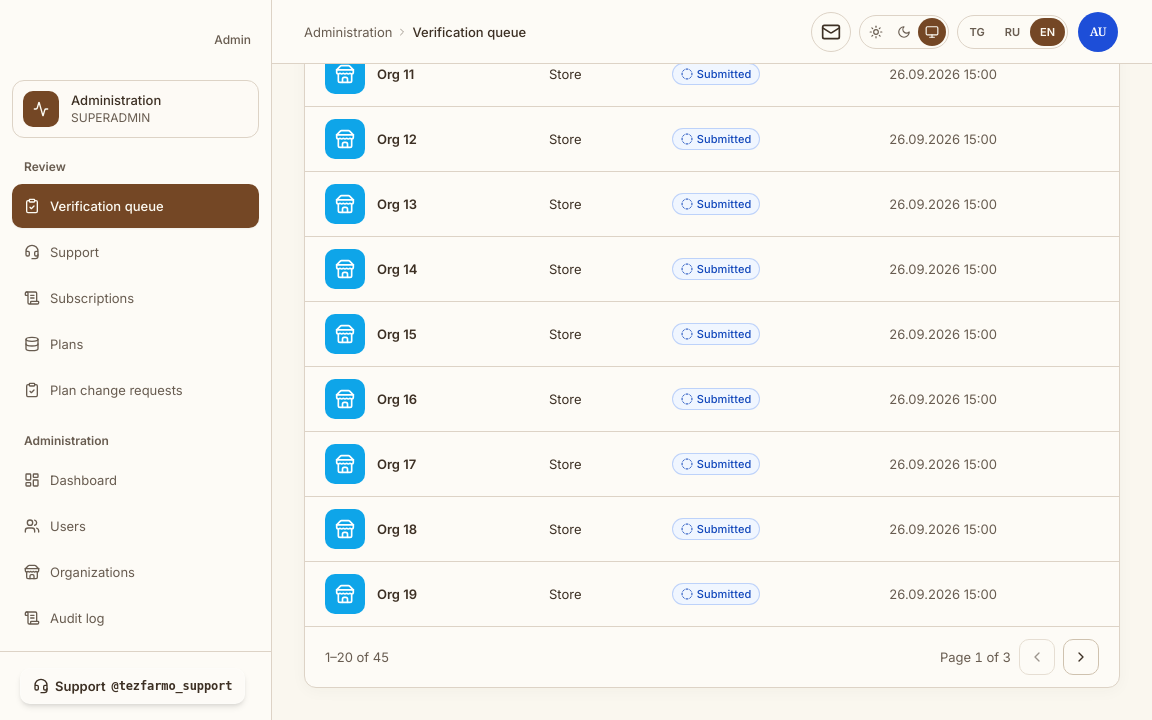
Test case: admin verification queue (P02 §5/§8) › FND-009/035: pages and sorts through the API (limit/offset, ordering=±submitted_at)
This screenshot has width=1152, height=720.
(page scrolled)
Step 1. Click the button named "Next page" → (1081, 657), box [1063, 639, 1099, 675]
(page scrolled)
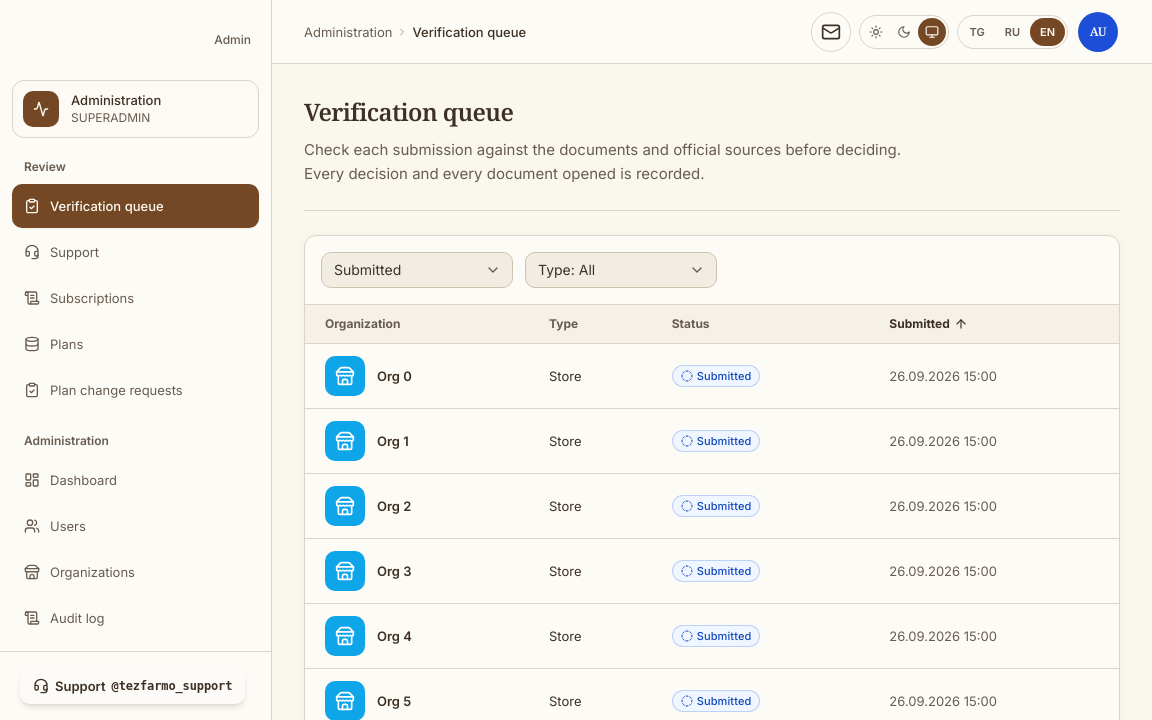
changing the order starts again at the first page
Step 2. Click the button "Submitted" → (928, 324), box [885, 315, 972, 333]
(page scrolled)
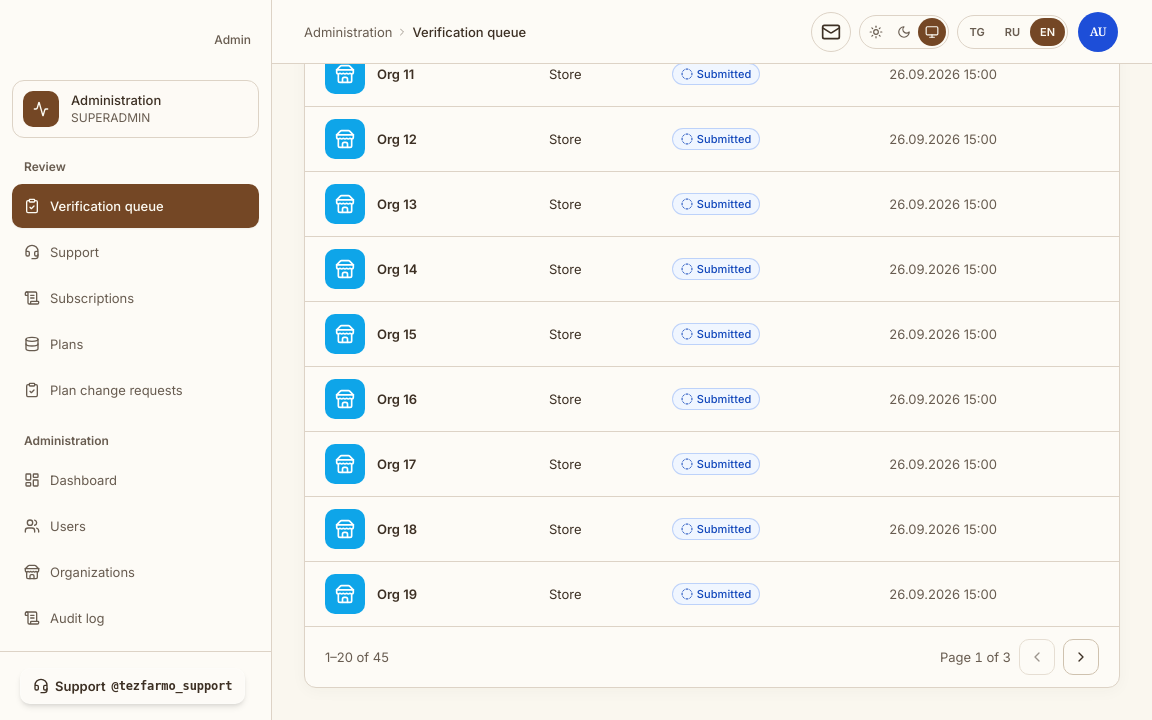
Step 3. Click the button named "Next page" → (1081, 657), box [1063, 639, 1099, 675]
(page scrolled)
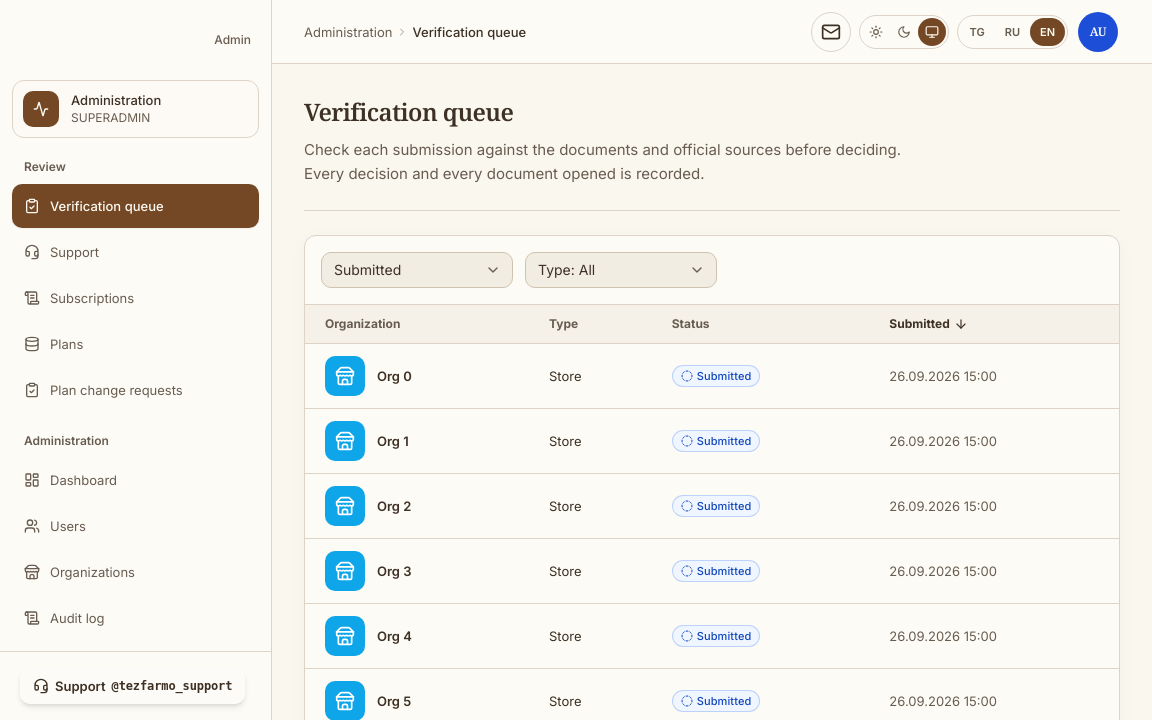
Step 4. Select "Store" in the dropdown named "Type" → (621, 270), box [525, 252, 717, 288]
(page scrolled)
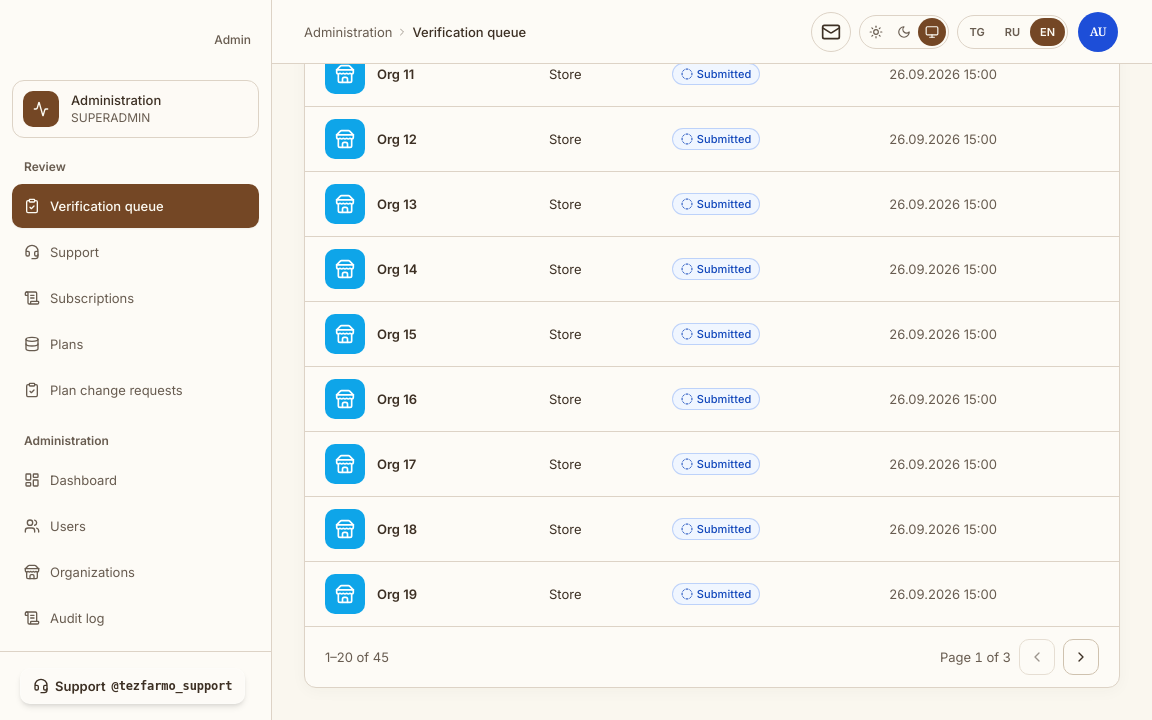
FND-011: "Reset filters" returns to the working queue (SUBMITTED, any type), keeps the order, first page
Step 5. Click the button named "Next page" → (1081, 657), box [1063, 639, 1099, 675]
(page scrolled)
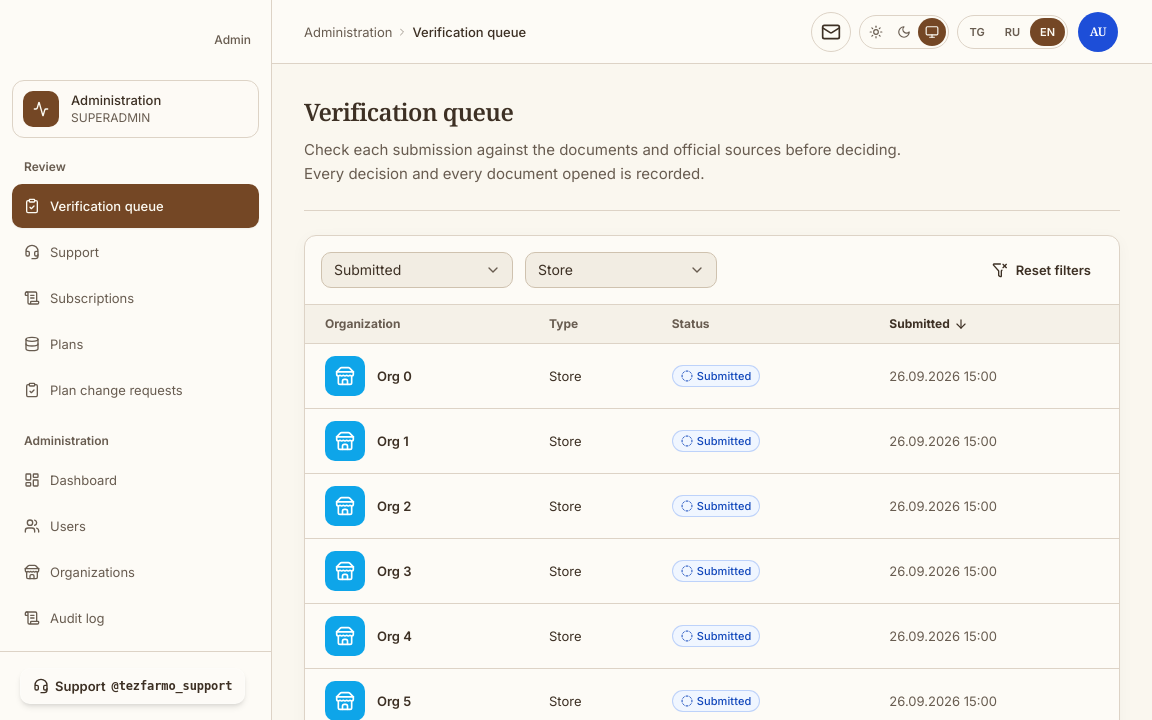
Step 6. Click the button "Reset filters" → (1041, 270), box [980, 254, 1103, 286]
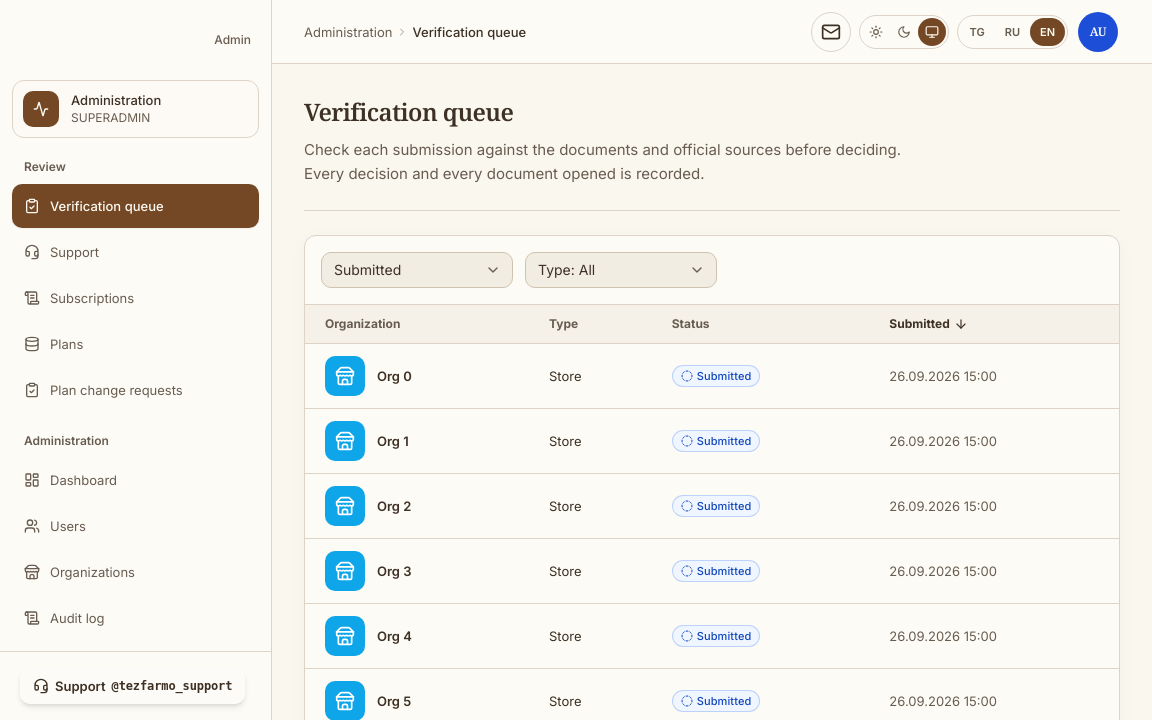
Expected: the button "Reset filters" is gone
